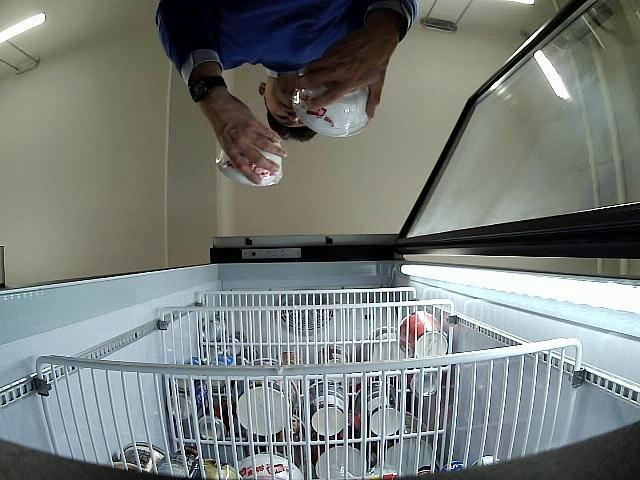09_yukGaeJang: (292, 84, 371, 138), (216, 142, 284, 188)
